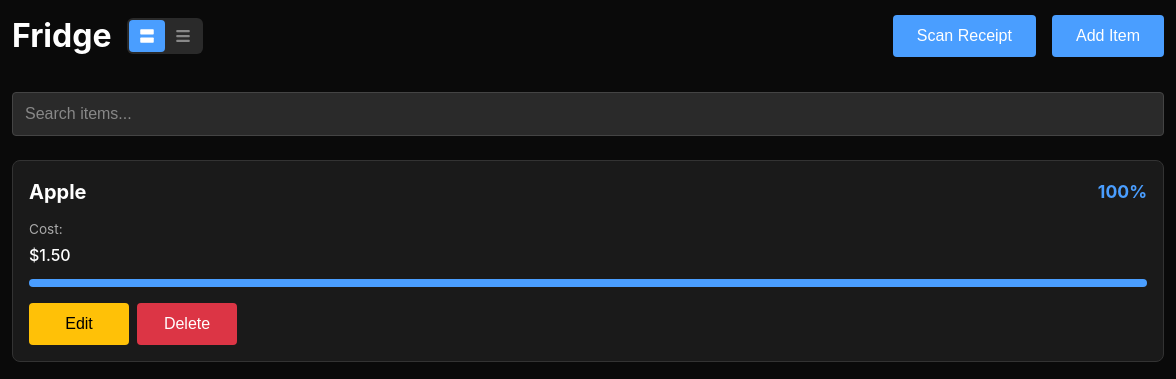
Test: Fridge › should display empty state when no items match search
This screenshot has width=1176, height=379.
Expected: the heading "Apple" is shown, x1=29 y1=177 x2=86 y2=207
Type "XYZ123" into the field with placeholder "Search items..." at (588, 114), box x1=12 y1=92 x2=1164 y2=136
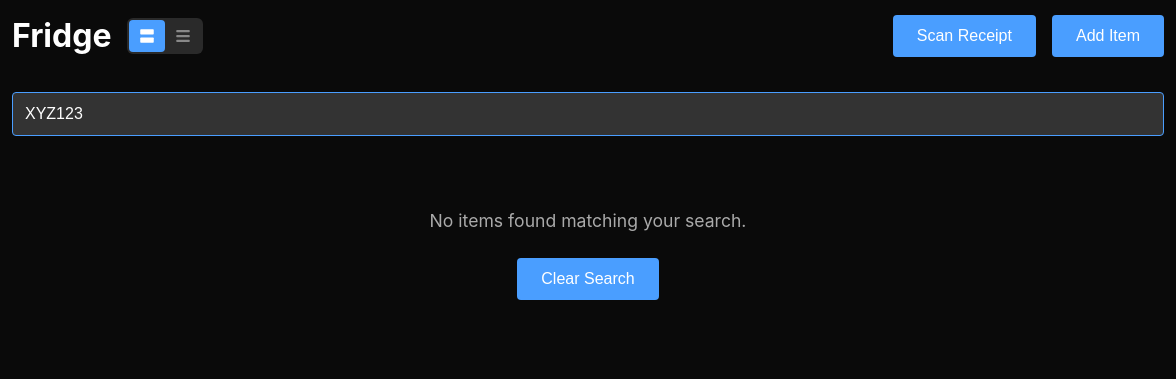
Now the heading "Apple" is gone
Now the text "No items found matching your search." is shown, box x1=430 y1=210 x2=746 y2=231
